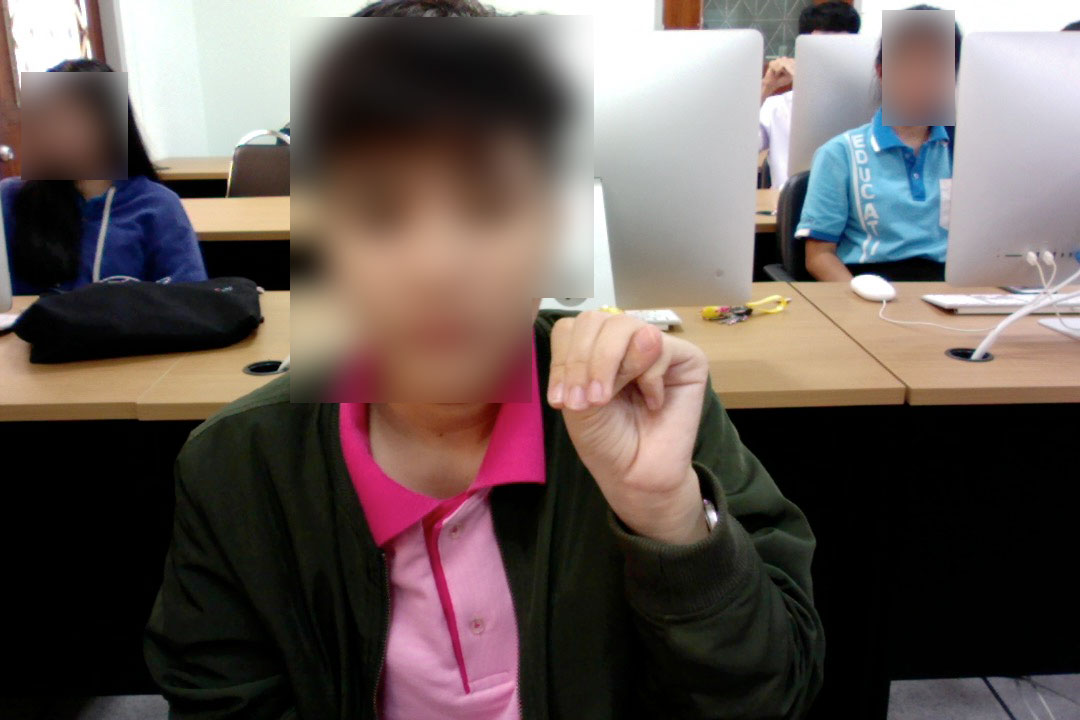mor: (541, 308, 719, 504)
